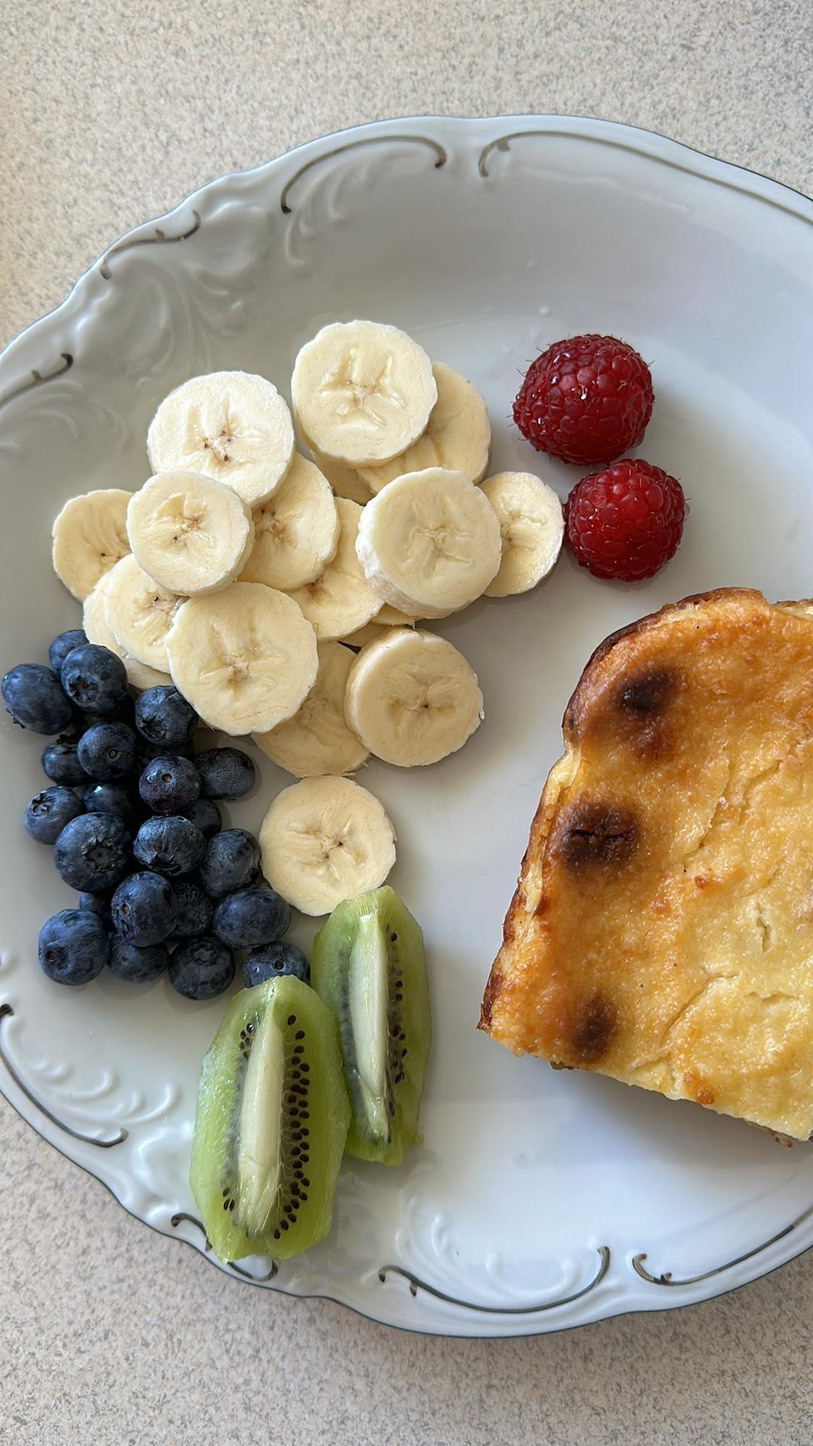banana: (160, 589, 317, 729), (286, 314, 429, 460), (358, 461, 495, 610), (350, 631, 484, 761), (152, 371, 284, 499), (359, 360, 490, 486), (273, 774, 392, 909), (273, 650, 377, 793), (128, 473, 243, 584), (98, 550, 203, 663), (480, 461, 565, 599), (252, 452, 343, 574), (57, 486, 145, 591)
blueberry: (53, 813, 131, 892), (113, 869, 179, 956), (1, 662, 75, 735), (198, 826, 268, 901), (38, 908, 108, 982), (57, 640, 126, 714), (223, 885, 290, 955), (136, 747, 199, 816), (191, 742, 258, 802), (75, 722, 148, 773), (136, 811, 196, 872), (134, 683, 193, 744), (175, 942, 233, 998), (27, 789, 80, 844), (41, 727, 82, 788), (110, 943, 174, 982), (247, 944, 306, 984), (52, 630, 90, 668)
kiwi: (198, 968, 343, 1271), (318, 887, 446, 1179)
raspberry: (508, 326, 657, 460), (566, 441, 685, 576)
